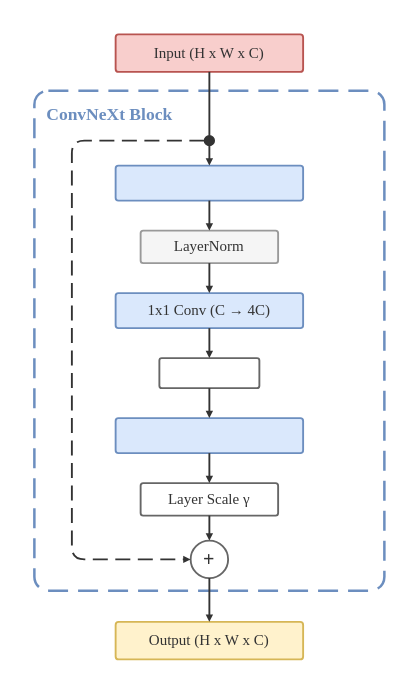
This 418x693 diagram has some shape labels left out. Each missing label, with the box of its shape:
1x1 Conv (4C → C): (114, 417, 304, 454)
Depthwise Conv 7x7: (114, 164, 304, 201)
GELU: (158, 357, 260, 388)
